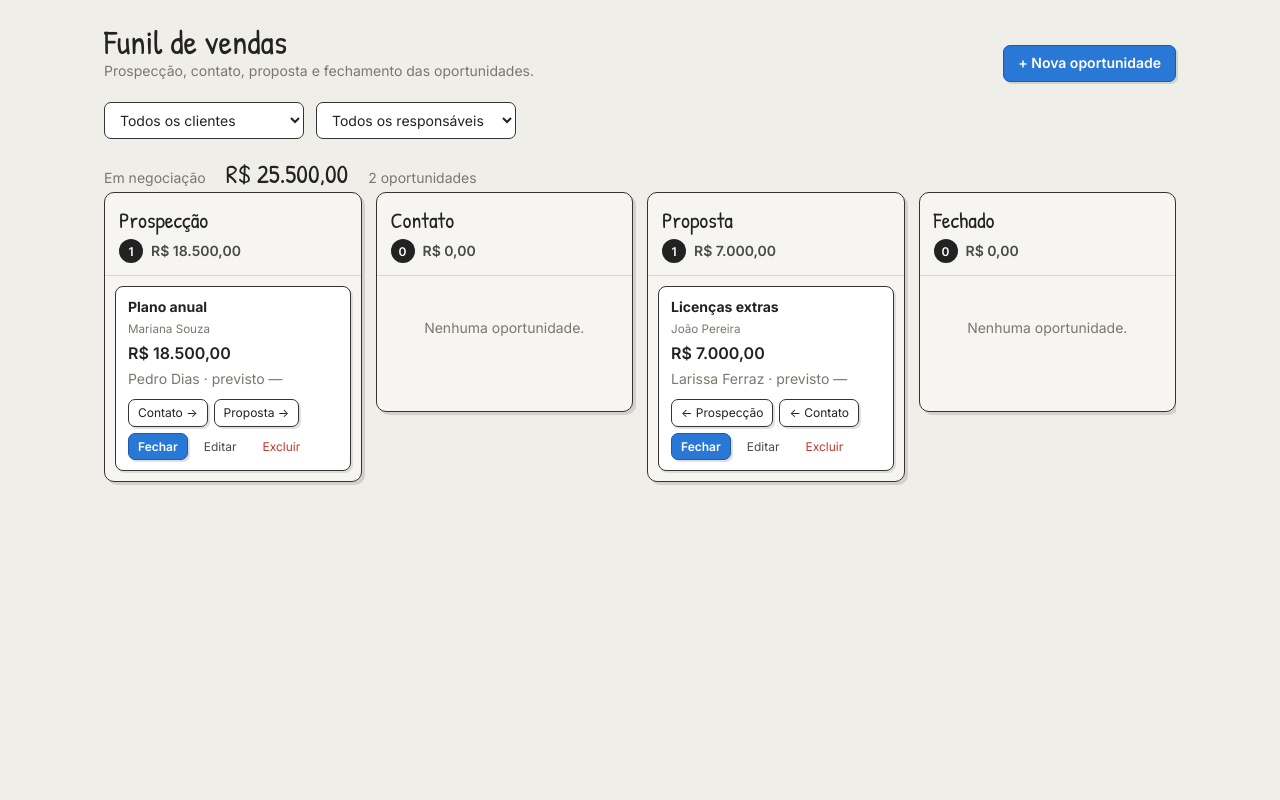
it: OportunidadesApp (microfrontend) › cria uma oportunidade escolhendo o cliente, validando antes de enviar
Expected: the text "Plano anual" is shown, [128, 298, 207, 315]
Click the button "+ Nova oportunidade".
click(1090, 64)  # box [1003, 45, 1176, 82]
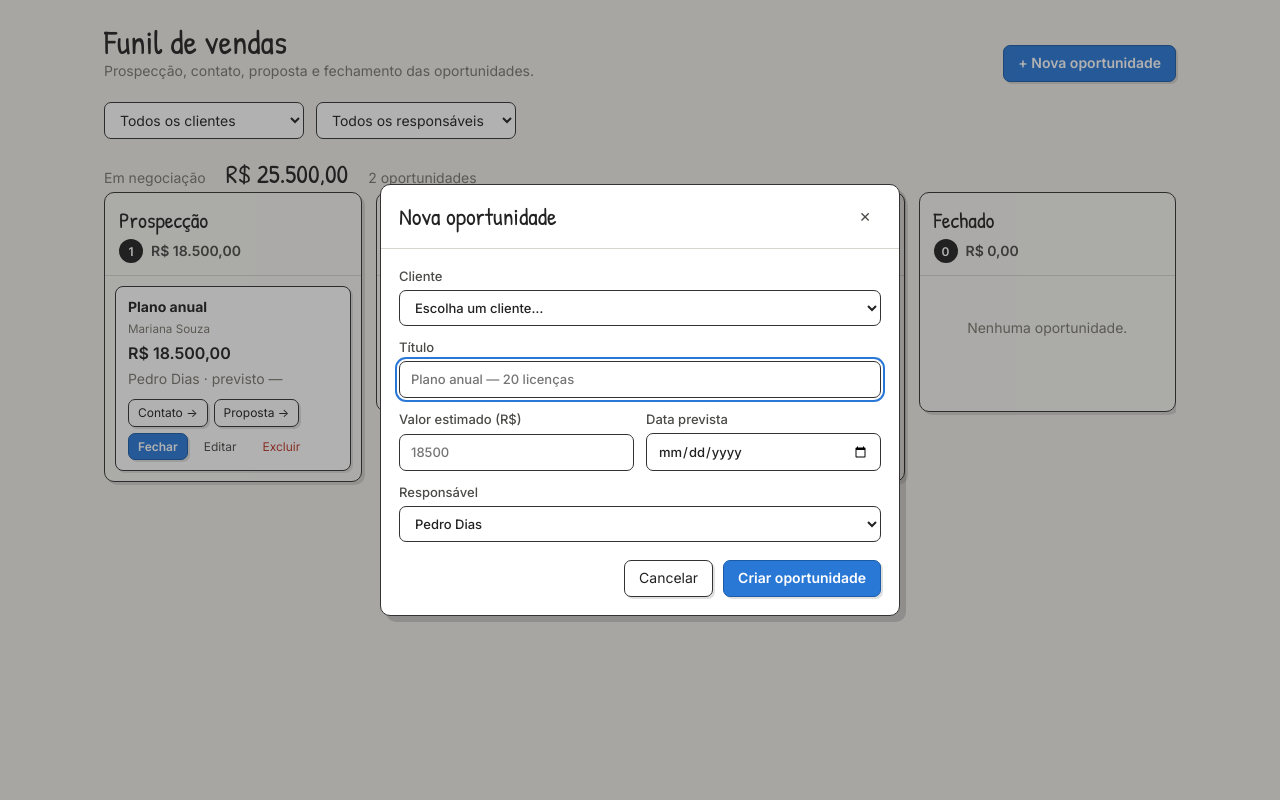
Click the button "Criar oportunidade".
click(802, 578)  # box [723, 560, 881, 597]
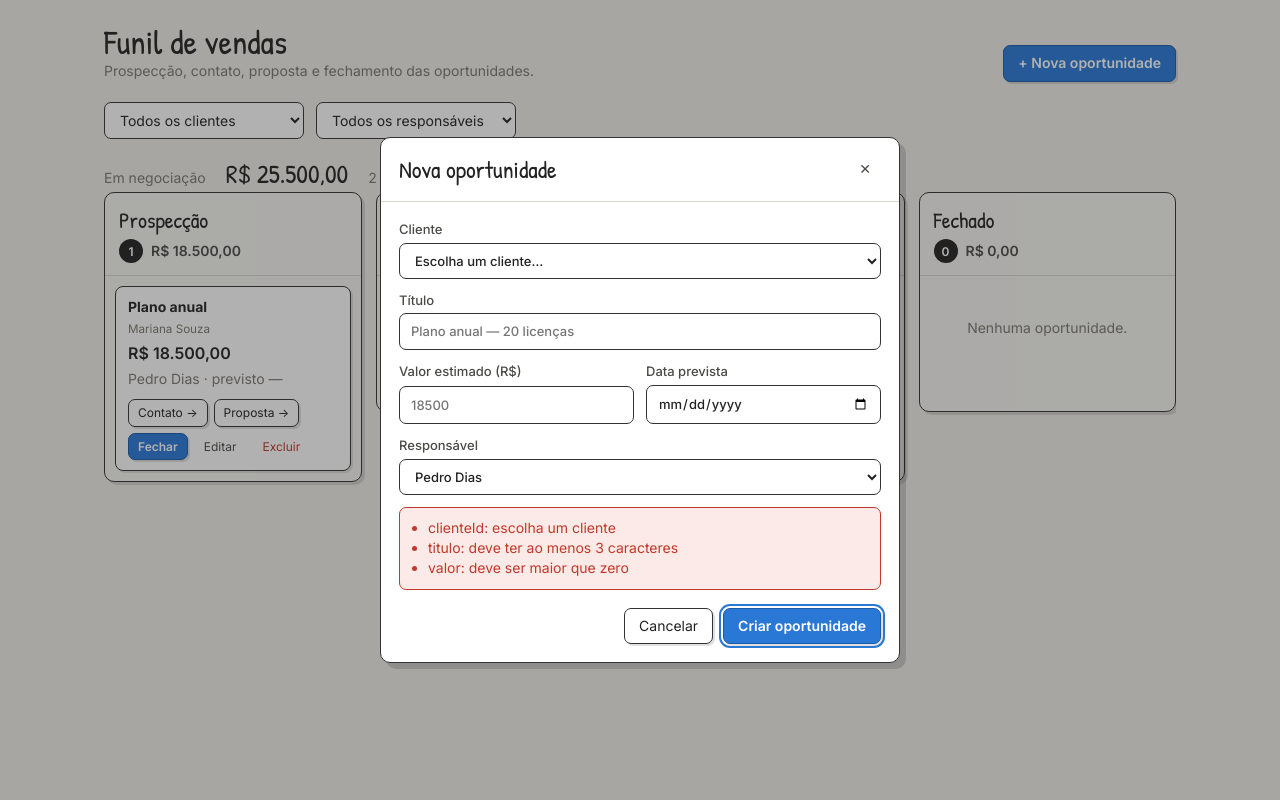
Now the message shows "clienteId: escolha um cliente", box [428, 519, 616, 536]
Now the message shows "valor: deve ser maior que zero", box [428, 559, 629, 576]
Select "João Pereira — Café Brasil" in the dropdown labelled "Cliente" at (640, 261), box [399, 243, 881, 279]
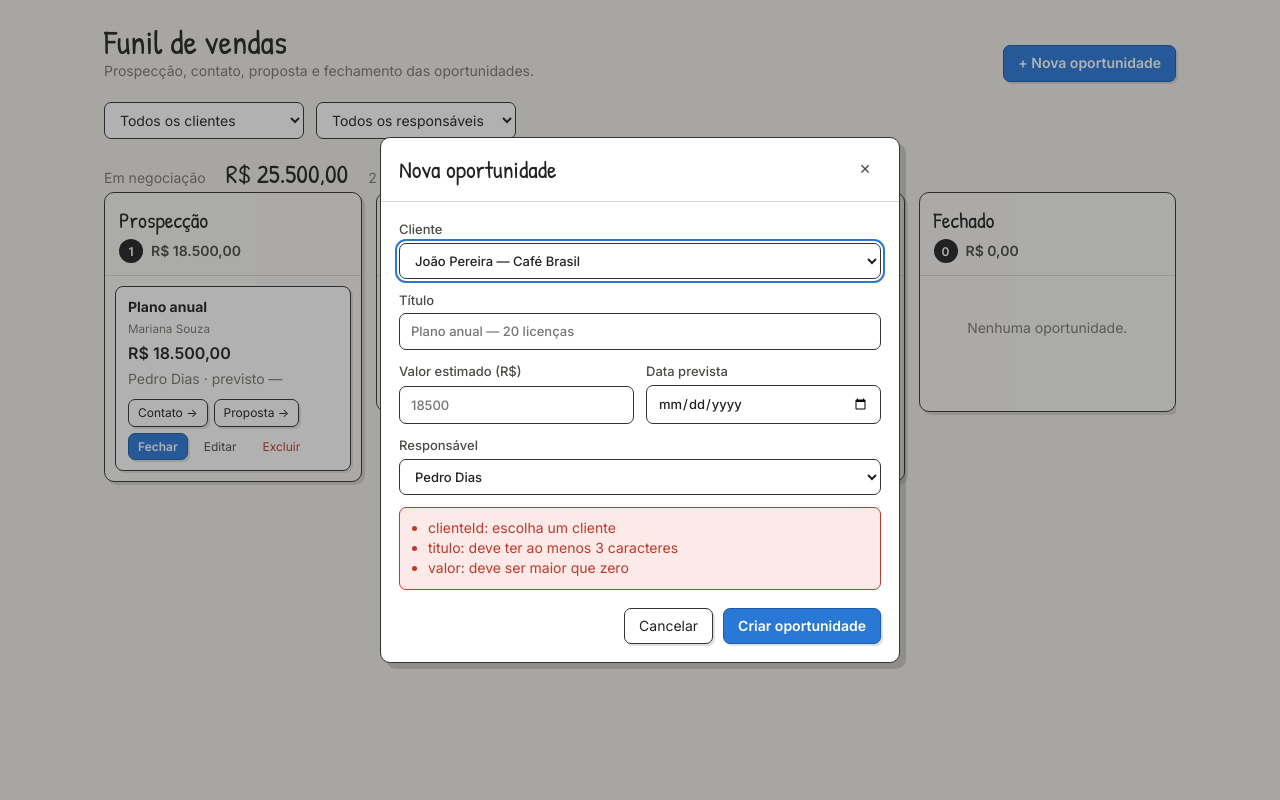
Type "Upgrade de plano" into the field labelled "Título".
click(640, 332); type("Upgrade de plano")  # box [399, 314, 881, 350]
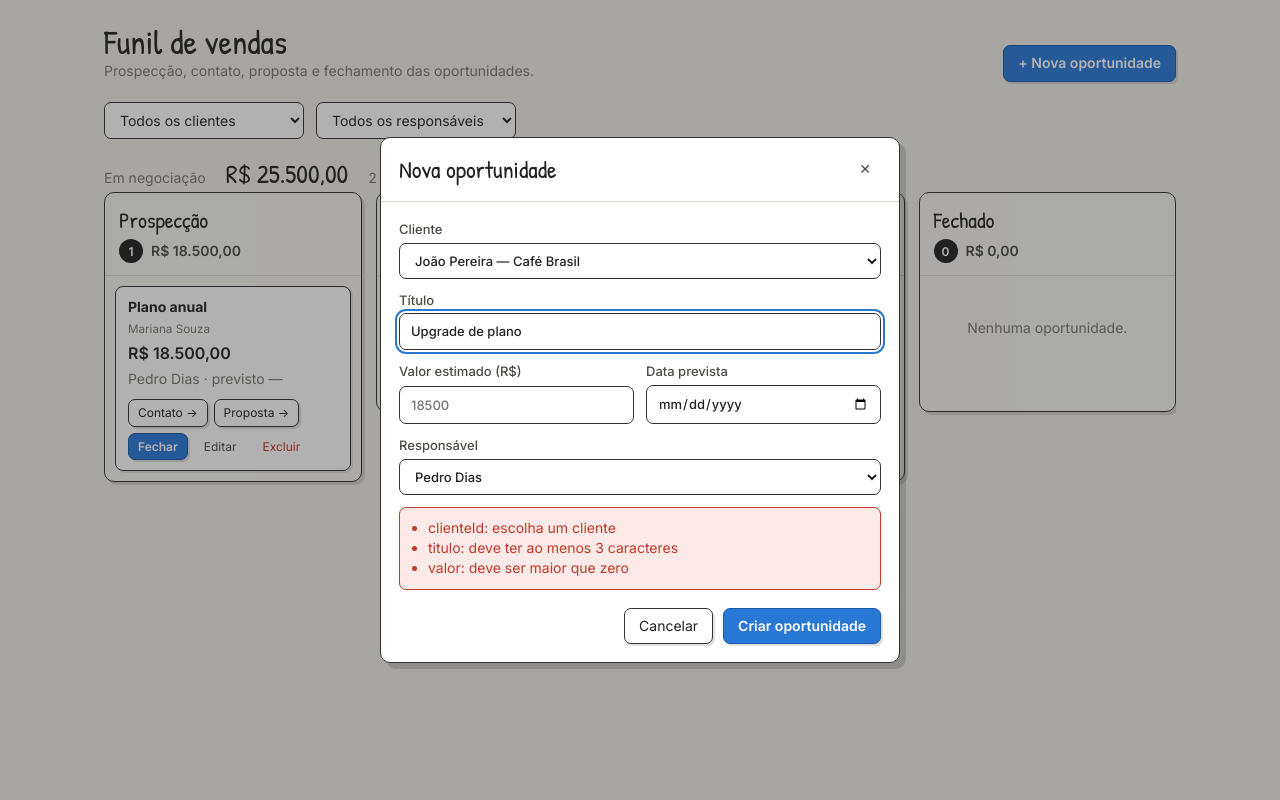
Type "4200" into the number field labelled "Valor estimado (R$)".
click(516, 405); type("4200")  # box [399, 386, 634, 424]
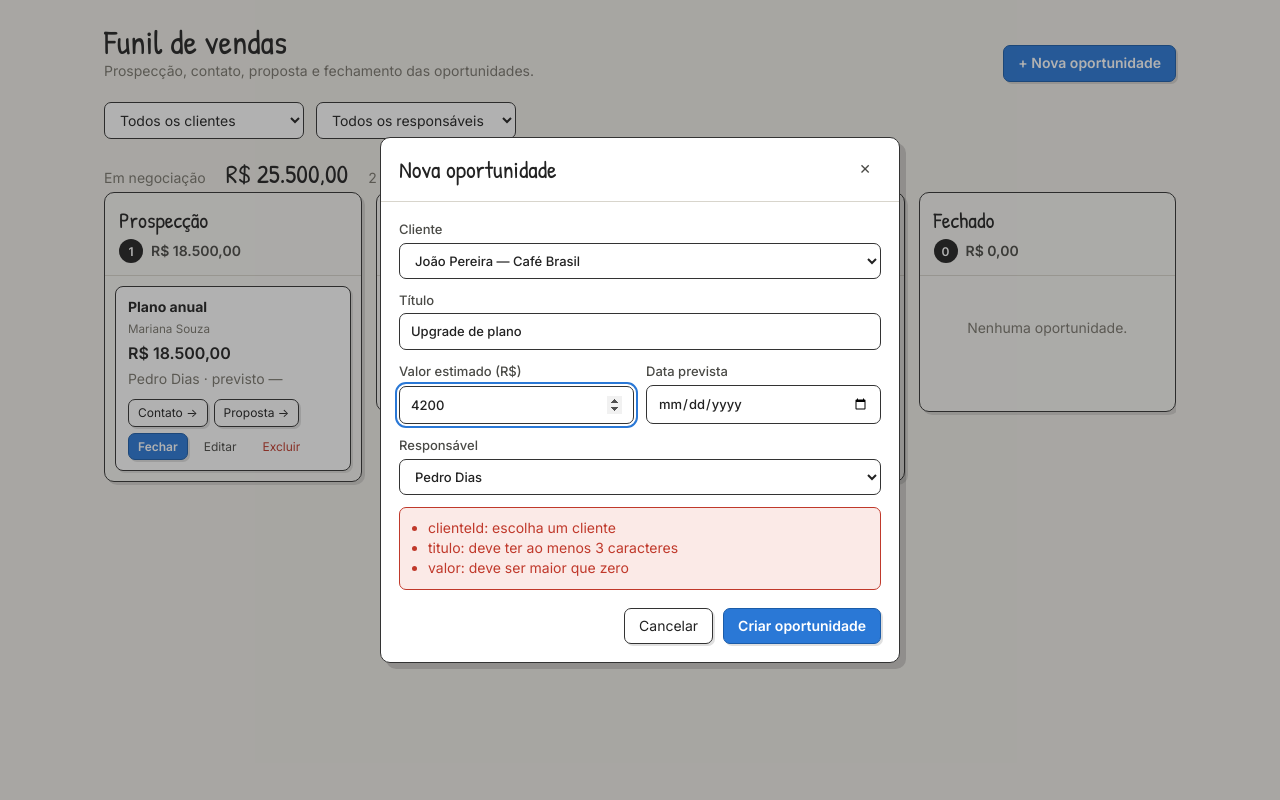
Click the button "Criar oportunidade".
click(802, 626)  # box [723, 608, 881, 644]
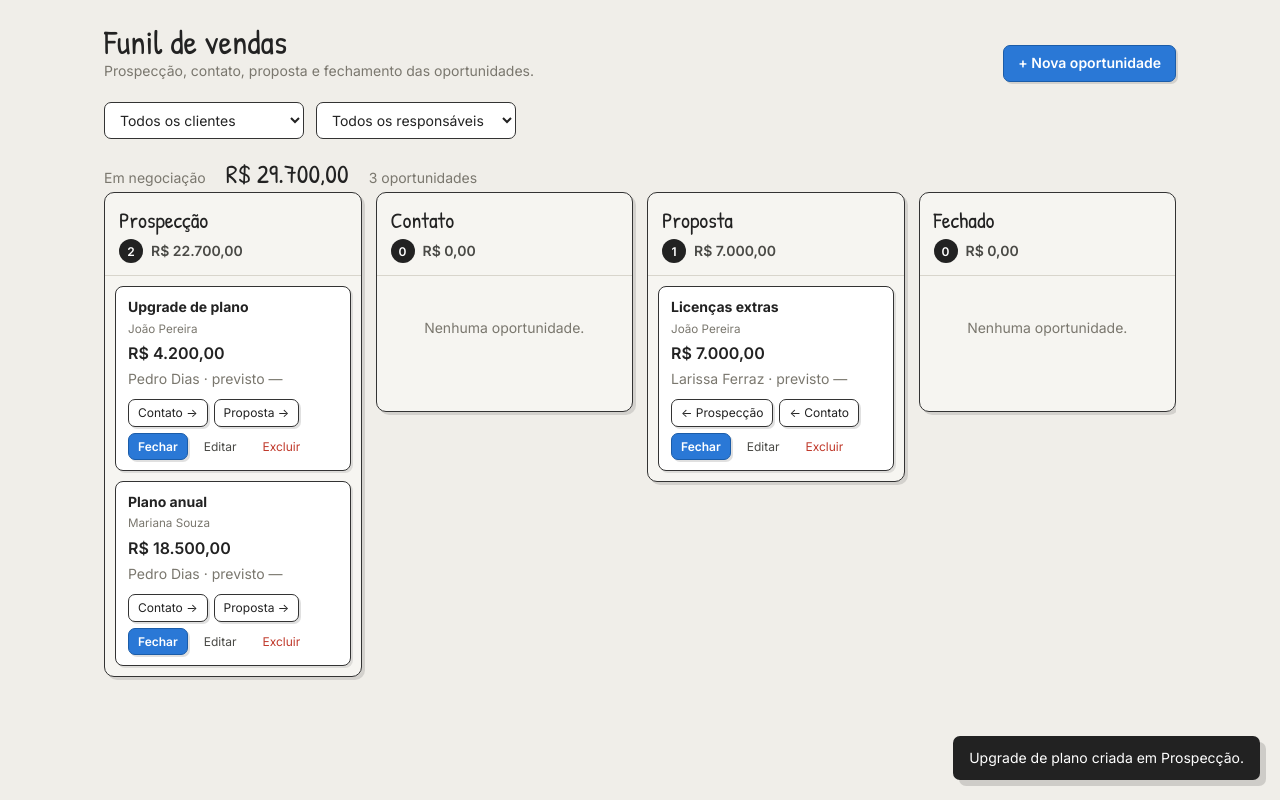
Now the message reads "Upgrade de plano criada em Prospecção.", box [969, 749, 1244, 766]
